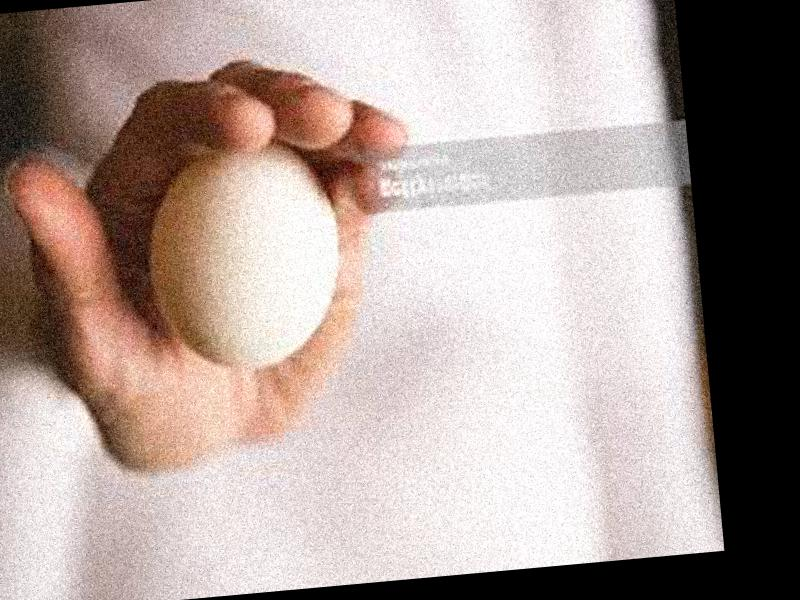Eggs: (137, 138, 348, 374)
